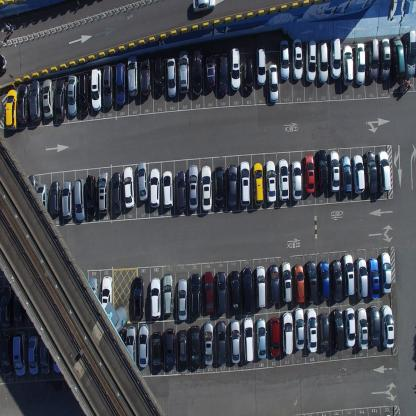car: (390, 36, 406, 80), (12, 330, 27, 376), (380, 304, 395, 348), (364, 149, 378, 195), (191, 50, 204, 98), (340, 44, 354, 87), (189, 272, 202, 318), (241, 266, 254, 312), (354, 257, 368, 299), (367, 305, 381, 347), (376, 150, 390, 192), (404, 29, 416, 78), (365, 38, 379, 80), (242, 316, 255, 361), (281, 311, 294, 356), (0, 283, 13, 328), (102, 62, 114, 110), (29, 78, 42, 122), (5, 88, 18, 132), (0, 332, 13, 376), (315, 149, 328, 193), (351, 154, 365, 194), (379, 251, 392, 294), (331, 308, 344, 351), (238, 160, 250, 206), (90, 66, 102, 112), (125, 325, 137, 371), (268, 316, 281, 358), (290, 38, 303, 80), (215, 319, 227, 364), (226, 163, 238, 208), (252, 161, 264, 206), (39, 331, 51, 376), (290, 159, 303, 200), (202, 320, 214, 364), (178, 49, 190, 93), (254, 264, 266, 308), (229, 48, 241, 92), (78, 70, 90, 114), (17, 82, 29, 126), (277, 158, 289, 202), (201, 164, 212, 212), (187, 164, 198, 212), (162, 272, 174, 316), (176, 278, 188, 322), (330, 259, 342, 303), (367, 256, 379, 300), (151, 330, 163, 374), (85, 174, 97, 218), (111, 170, 123, 214), (329, 36, 341, 80), (54, 78, 66, 121), (280, 261, 292, 304), (342, 253, 354, 296), (100, 275, 112, 318), (353, 42, 365, 85), (115, 60, 126, 106), (306, 307, 317, 353), (255, 317, 267, 359), (318, 259, 330, 301), (328, 150, 340, 192), (316, 42, 328, 84), (190, 324, 201, 369), (138, 323, 149, 368), (74, 177, 85, 222), (98, 170, 109, 215), (204, 50, 216, 91), (42, 79, 54, 120), (268, 264, 280, 305), (293, 263, 305, 304), (52, 332, 64, 373), (14, 281, 26, 322), (255, 45, 267, 86), (216, 270, 227, 314), (214, 166, 225, 210), (229, 268, 240, 312), (67, 73, 78, 117), (306, 260, 317, 304), (294, 307, 305, 351), (150, 276, 161, 320), (133, 275, 144, 319), (379, 37, 390, 81), (344, 307, 356, 347), (36, 182, 48, 222), (303, 154, 315, 194), (340, 155, 352, 195), (267, 63, 279, 103), (217, 53, 228, 96), (127, 54, 138, 97), (265, 160, 276, 203), (113, 330, 124, 373), (123, 165, 134, 208), (305, 39, 316, 82), (164, 326, 175, 368), (177, 328, 188, 370), (203, 270, 214, 312), (166, 56, 177, 98), (140, 54, 151, 96), (356, 308, 367, 350), (87, 276, 98, 318), (27, 174, 38, 216), (137, 160, 148, 202), (149, 167, 160, 209), (279, 39, 290, 81), (162, 169, 173, 210), (319, 311, 330, 352), (230, 318, 240, 363), (242, 57, 254, 94), (175, 170, 186, 210), (62, 180, 73, 220), (49, 180, 61, 216), (154, 54, 164, 96), (28, 334, 38, 374), (192, 0, 216, 14), (0, 51, 8, 76)
